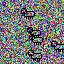sheep: (27, 49, 43, 62), (20, 7, 35, 19), (28, 34, 43, 45), (27, 26, 40, 37), (51, 41, 64, 52)
